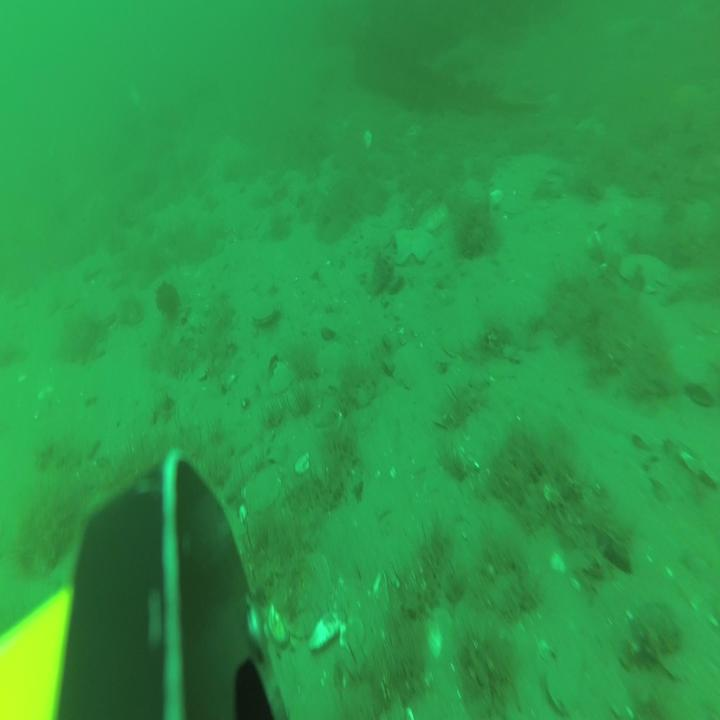scallop: (278, 554, 328, 637), (242, 468, 290, 527), (620, 246, 666, 292), (421, 200, 451, 231), (459, 176, 487, 208), (250, 298, 280, 325), (343, 616, 363, 656), (404, 122, 421, 138), (363, 129, 373, 154)
starfish: (392, 226, 438, 264)
